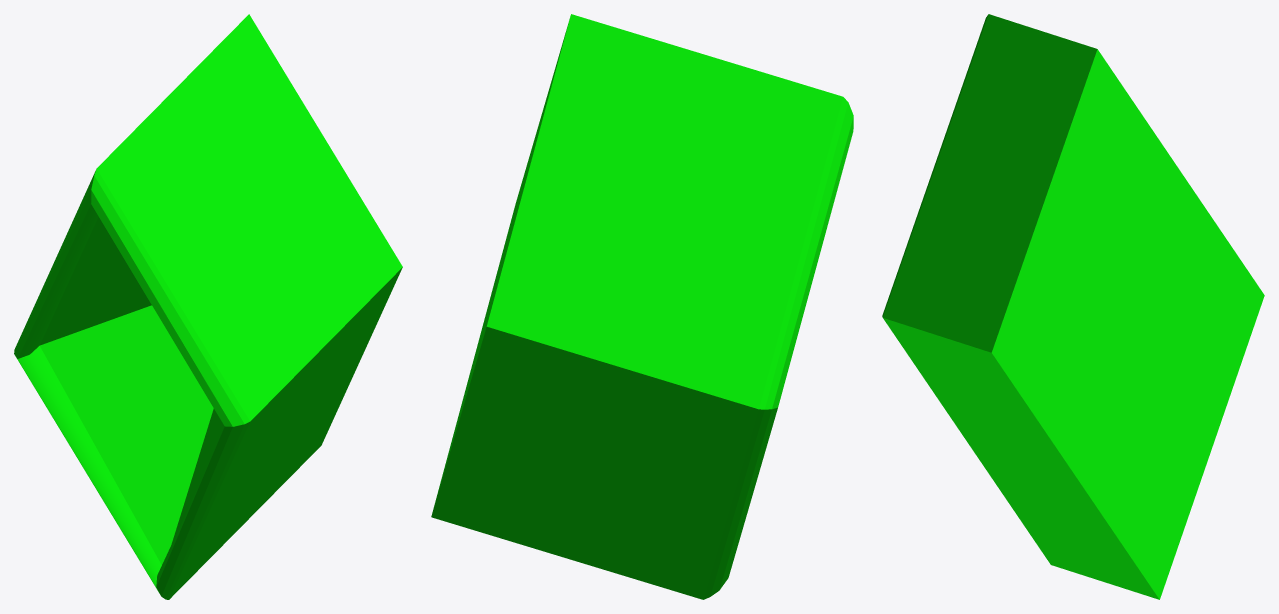
File: TL4_8shapes_Kite_Classic_Metal.001 2.glb
3 renders of one model, left to right at view 1: azimuth 30°, elevation 25°; view 2: azimuth 150°, elevation 25°; view 3: azimuth 270°, elevation 25°, orthographic. The views are drawn at different scales.
Visible parts, largest first — view 1: TL4_8shapes_Kite_Classic_Metal.001; view 2: TL4_8shapes_Kite_Classic_Metal.001; view 3: TL4_8shapes_Kite_Classic_Metal.001.
Boxes of the visible parts, left/top/right/bottom form: TL4_8shapes_Kite_Classic_Metal.001: left=14, top=14, right=402, bottom=599; TL4_8shapes_Kite_Classic_Metal.001: left=431, top=14, right=853, bottom=599; TL4_8shapes_Kite_Classic_Metal.001: left=882, top=14, right=1264, bottom=599.
Bounding box in the file's own units: 0.4049 × 0.6657 × 0.4062.
